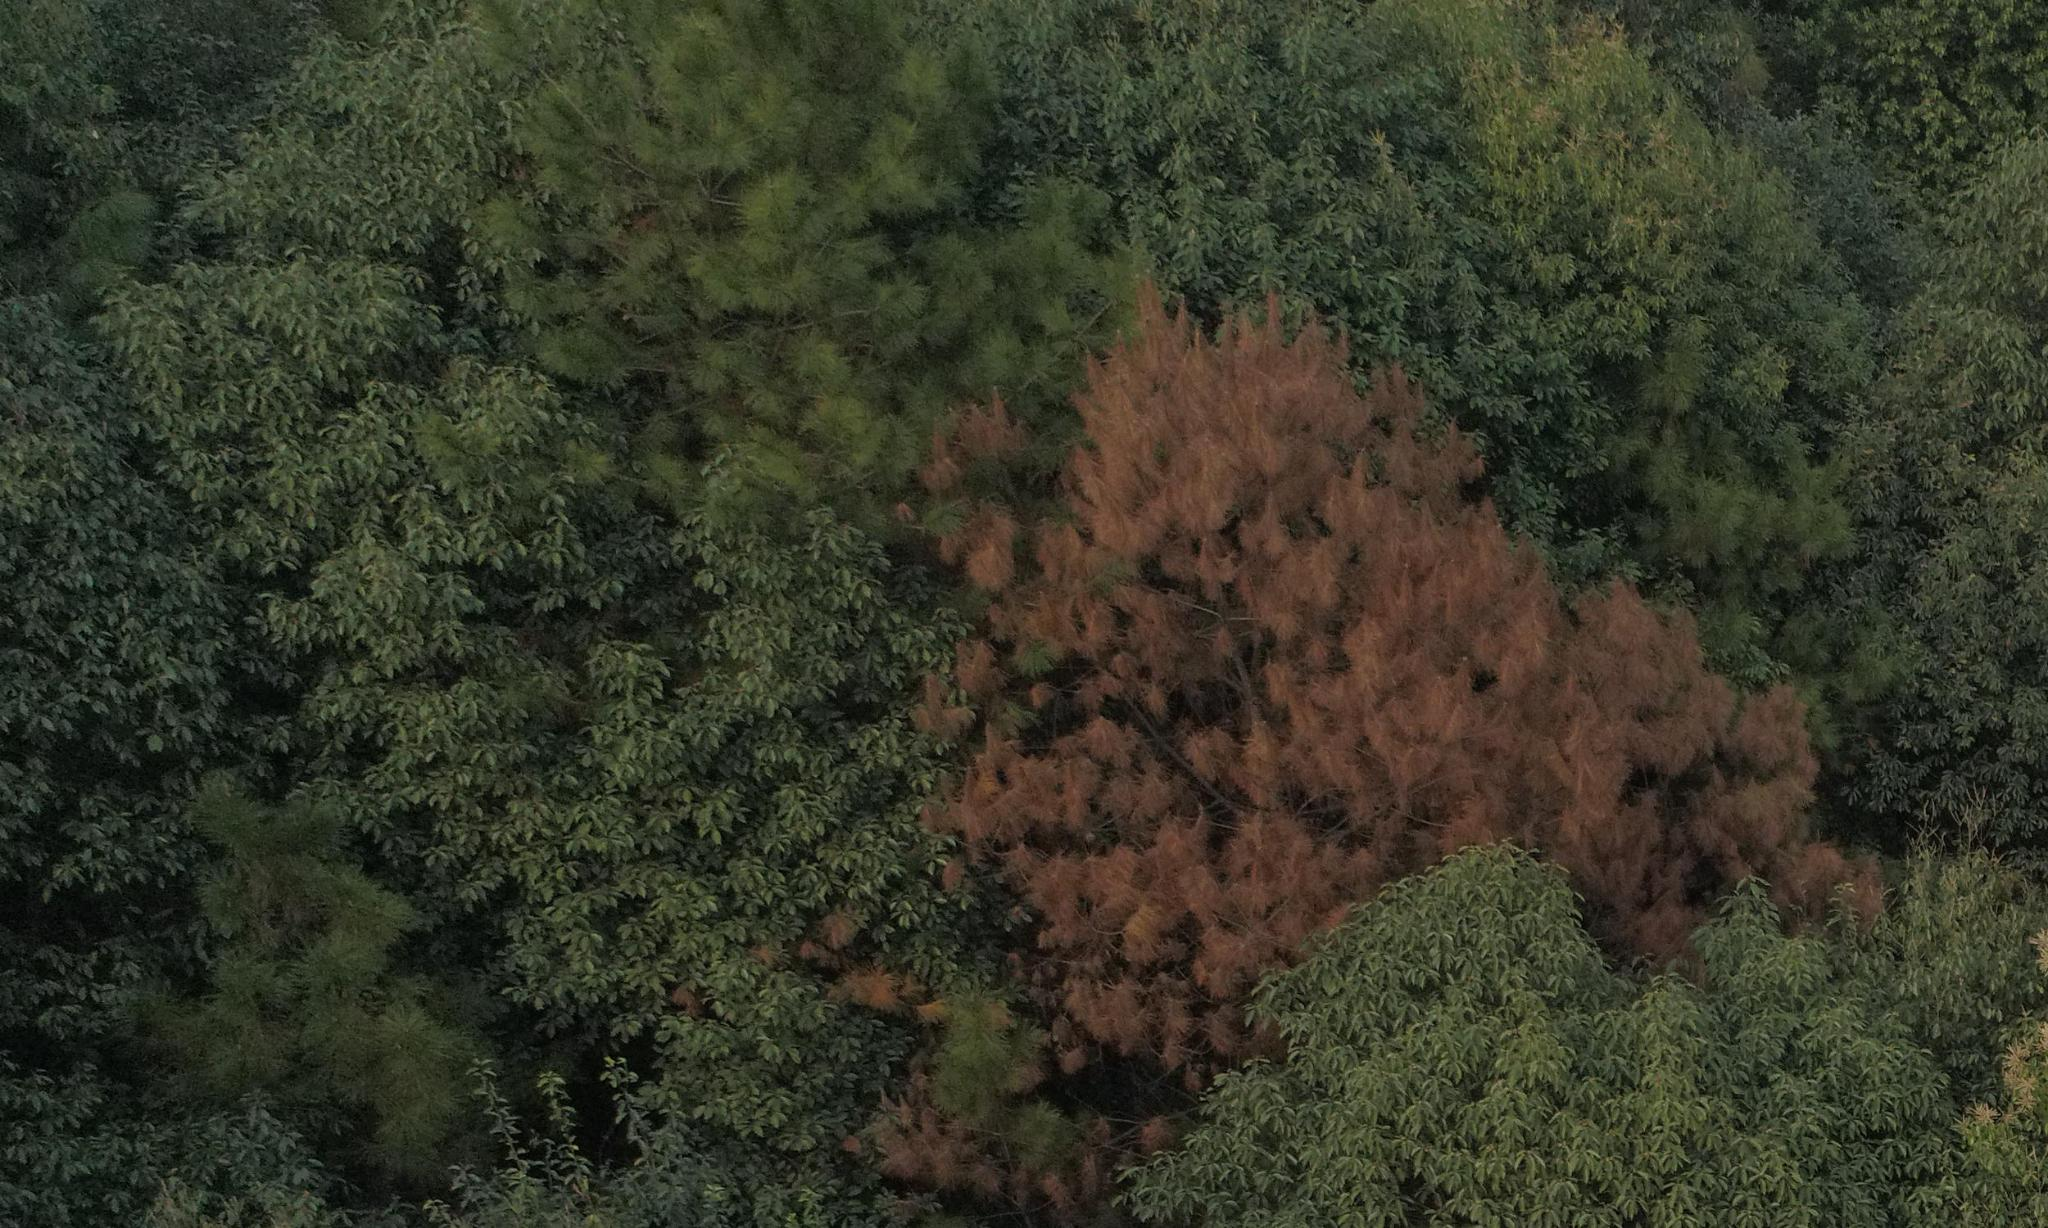heavy: (883, 266, 1845, 1036)
